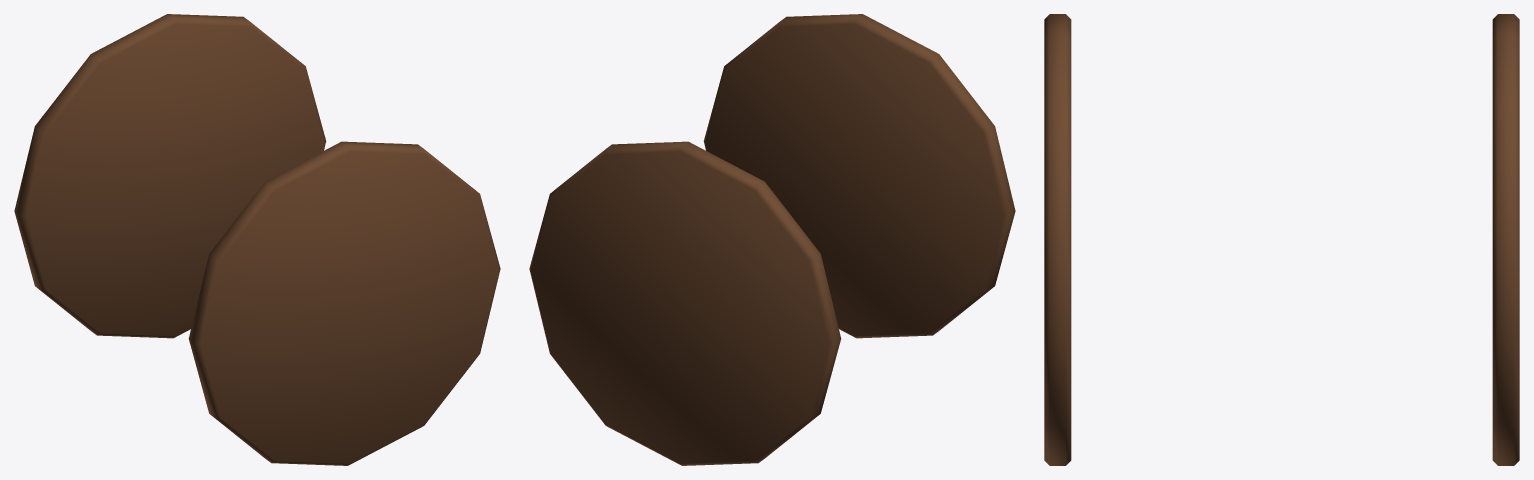
File: k12_discs.obj
The picture shows the model from 3 angles, left to right: view 1: azimuth 30°, elevation 25°; view 2: azimuth 150°, elevation 25°; view 3: azimuth 270°, elevation 25°; orthographic projection. The views are drawn at different scales.
Visible parts, largest first — view 1: k12_discs; view 2: k12_discs; view 3: k12_discs.
Boxes of the visible parts, left/top/right/bottom form: k12_discs: left=14, top=14, right=500, bottom=465; k12_discs: left=529, top=14, right=1015, bottom=465; k12_discs: left=1044, top=14, right=1519, bottom=465.
Bounding box in the file's own units: 2.67 × 2.67 × 2.79.
